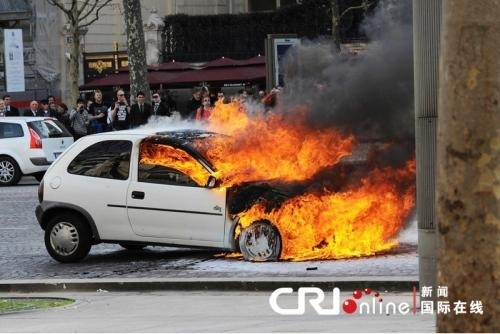fire: (220, 145, 415, 261), (204, 98, 354, 183), (139, 139, 211, 188)
